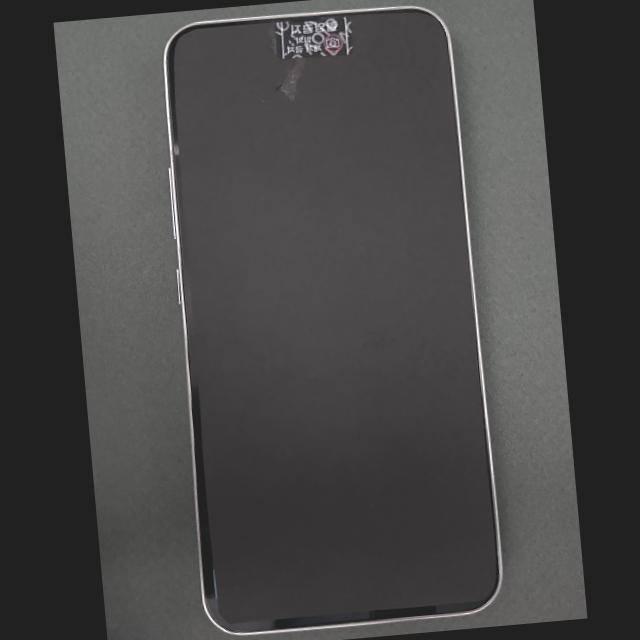phone: (164, 7, 501, 635)
sticker: (272, 17, 353, 58)
